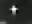person: (9, 6, 21, 16)
